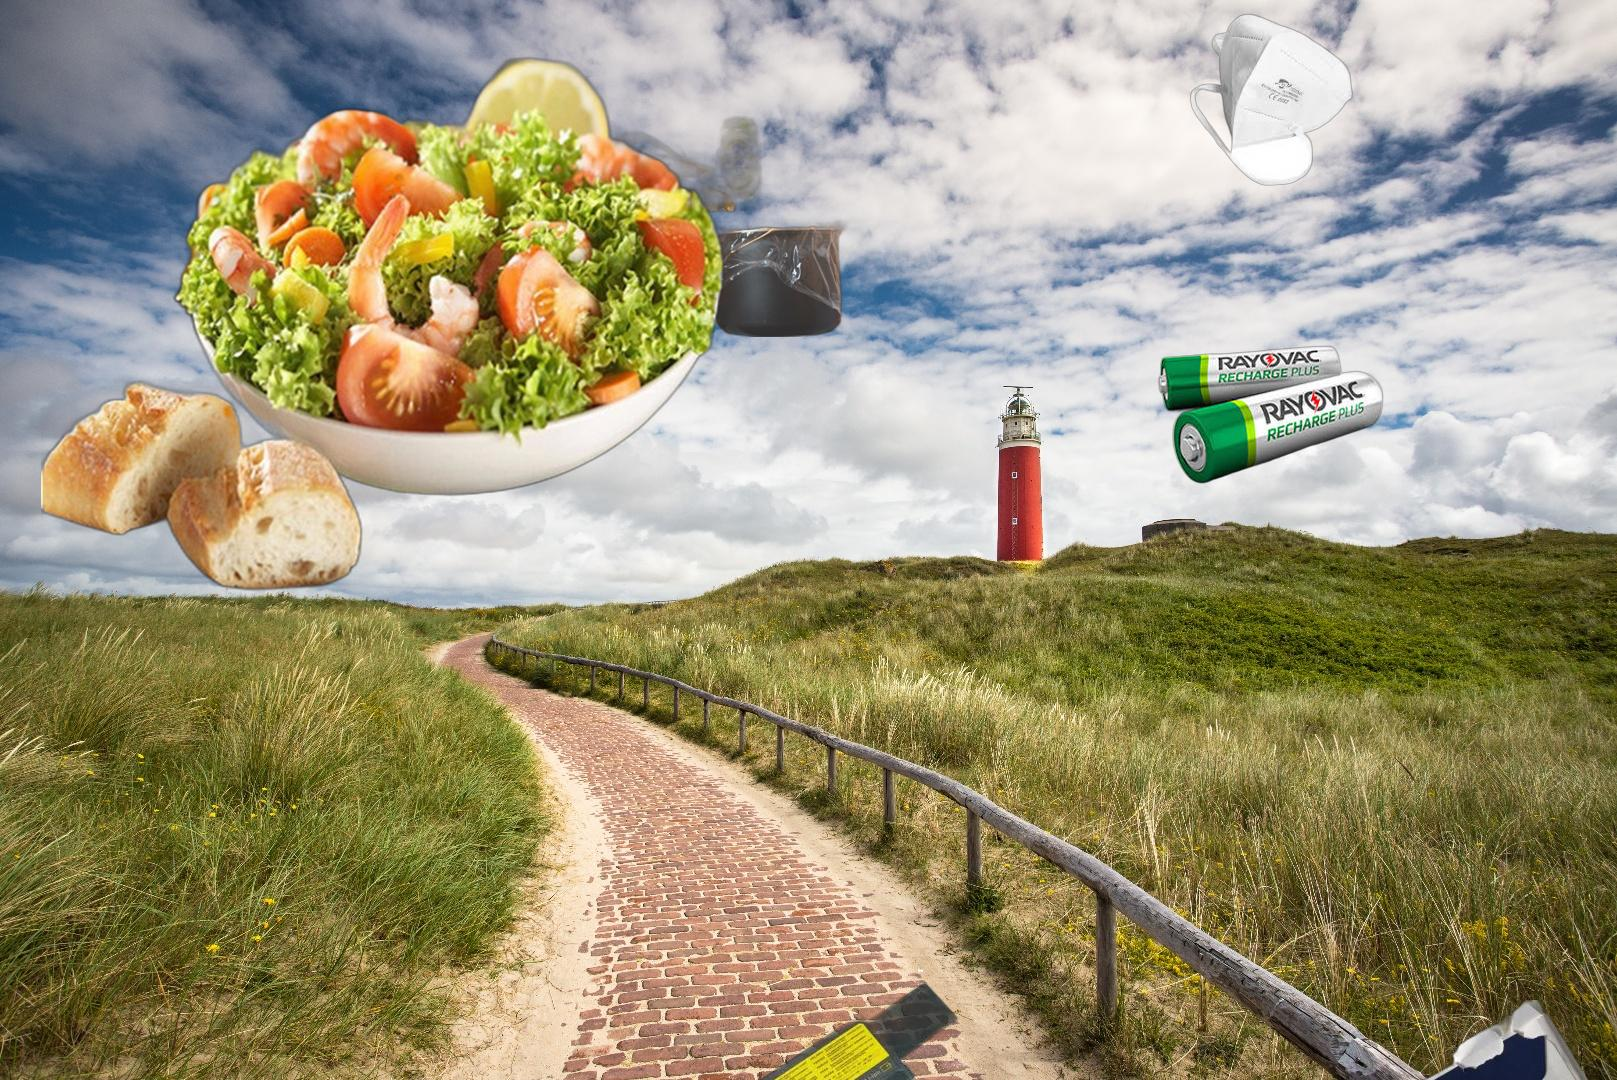battery: (1156, 344, 1384, 486), (712, 979, 964, 1080)
biological: (41, 55, 731, 594), (519, 104, 869, 337)
paper: (1195, 1000, 1617, 1080)
trash: (1188, 11, 1354, 188)
